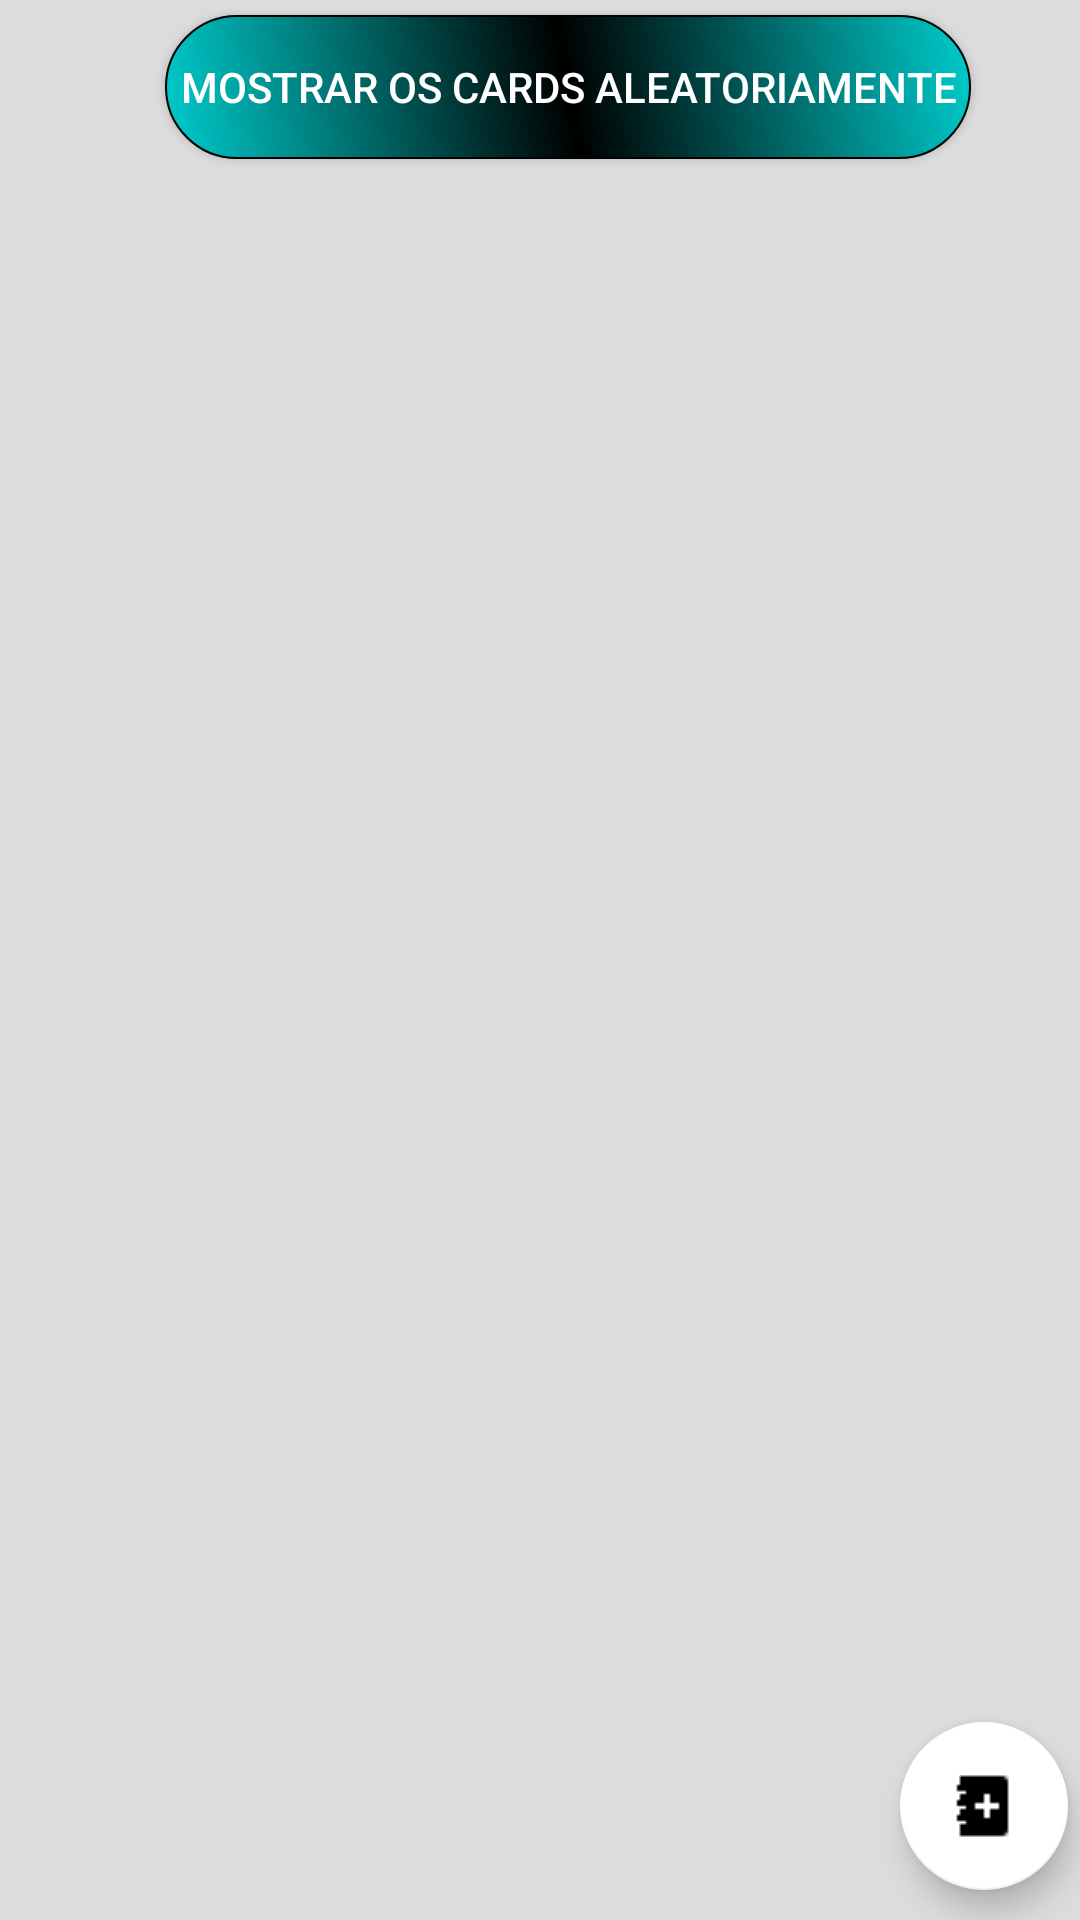

Icons on this 1080x1920 Android screen, each with its box as (x1, y1, x2, y2):
add: (900, 1722, 1068, 1890)
